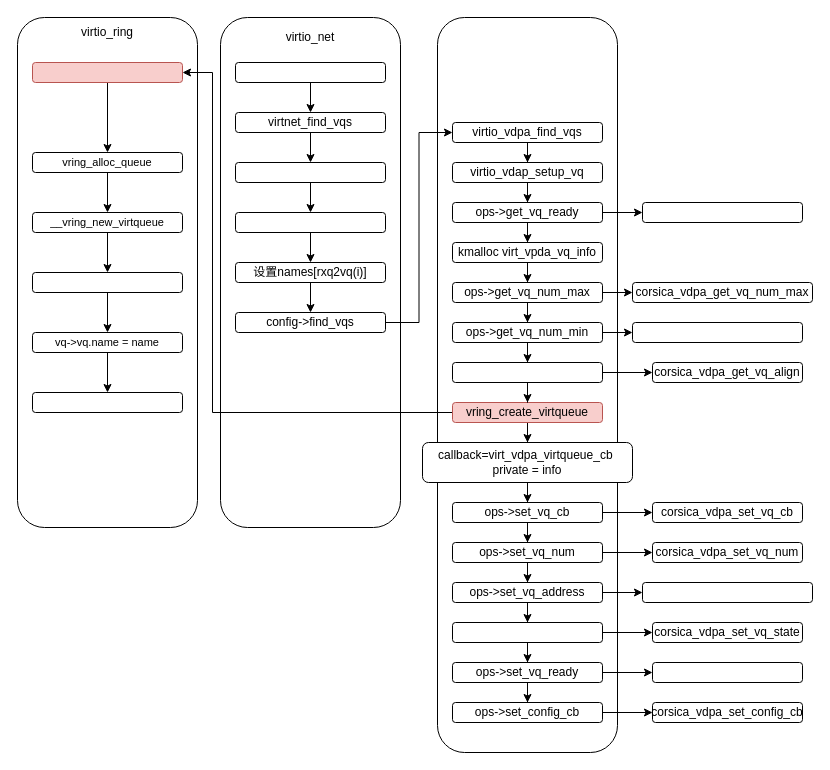
Some shapes in this 830 by 770 pixel diagram are drawn without their labels. The centre of each missing label's shape, as x and y in pixels:
corsica_vdpa_get_vq_num_min: point (717, 332)
corsica_vdpa_get_vq_ready: point (722, 212)
corsica_vdpa_set_vq_address: point (727, 592)
corsica_vdpa_set_vq_ready: point (727, 672)
init_vqs: point (310, 72)
ops->get_vq_align: point (527, 372)
ops->set_vq_state: point (527, 632)
vq->notify = notify: point (107, 402)
vq->vq.callback = callback: point (107, 282)
vring_create_vritqueue_split: point (107, 72)
计算总的total_vqs: point (310, 172)
设置callbacks[rxq2vq(i)]: point (310, 222)
